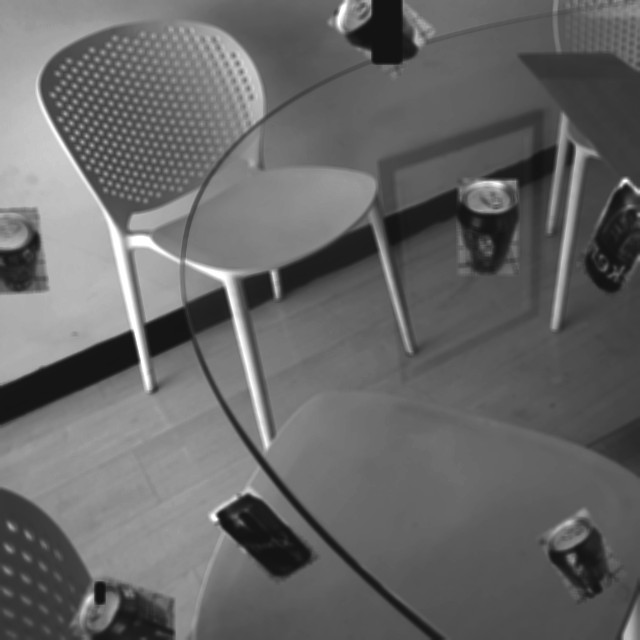heineken: (537, 508, 627, 605), (578, 178, 640, 298), (0, 200, 53, 302)
pepsi: (458, 179, 518, 275)
schweppes: (209, 477, 319, 595), (328, 0, 436, 79)
sprite: (68, 554, 174, 640)
